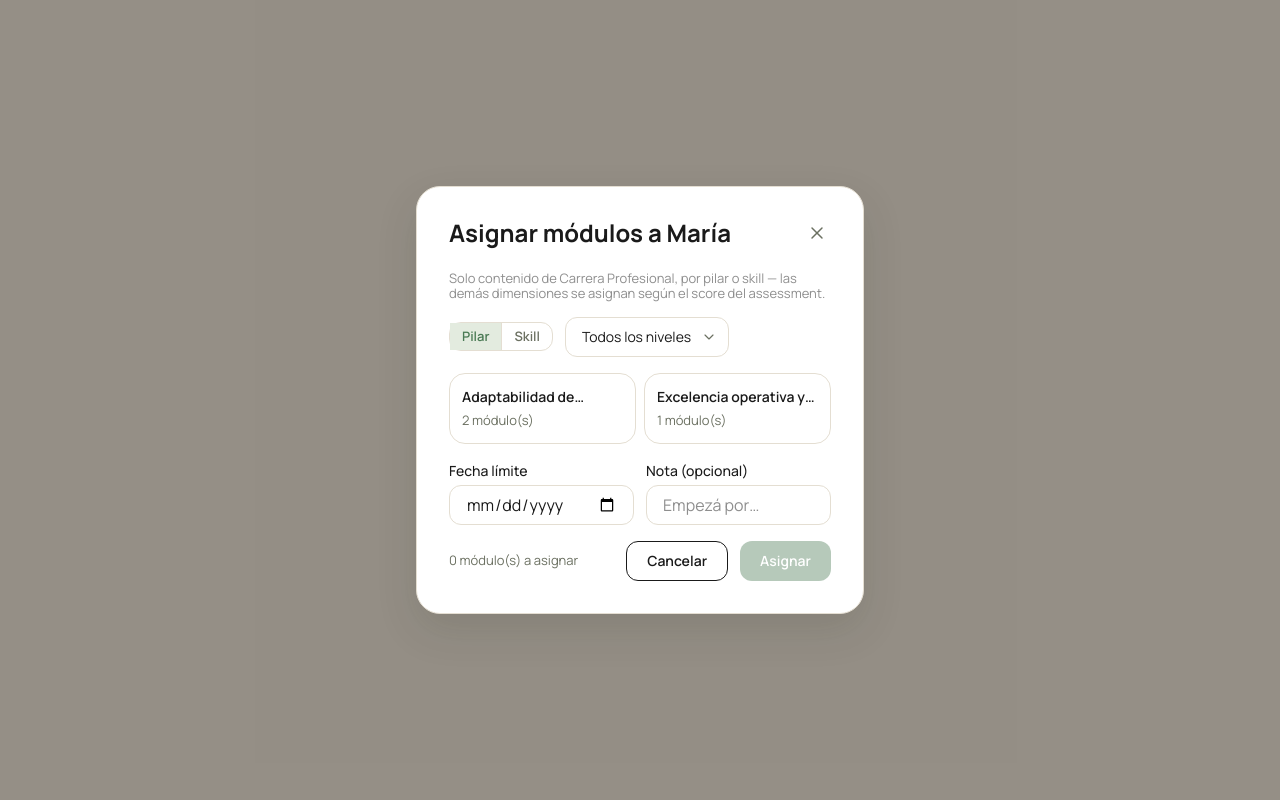
AssignModulesModal › switches to skill grouping via the toggle
Expected: the text "Adaptabilidad de aprendizaje" is shown, x1=462 y1=387 x2=574 y2=427
Click the tab "Skill": (527,337) x1=502 y1=324 x2=552 y2=350
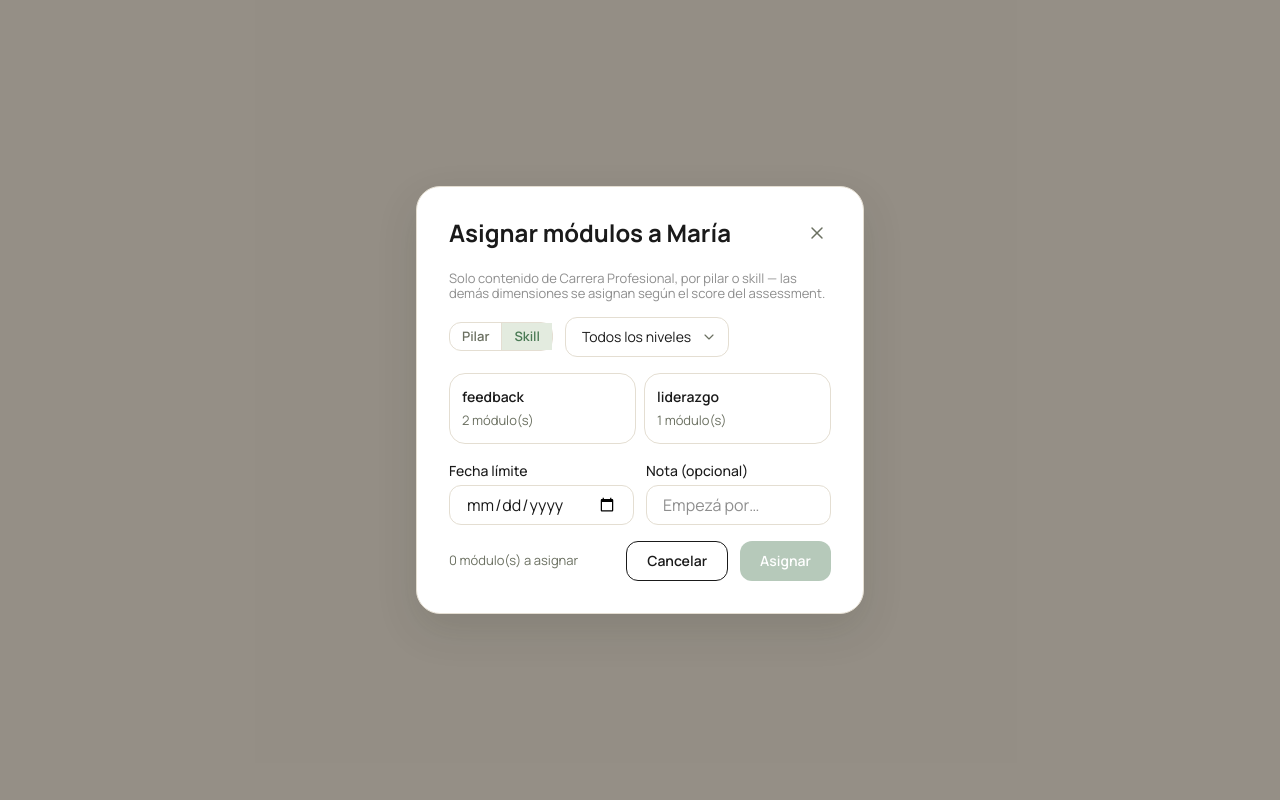
Now the text "feedback" is shown, box x1=462 y1=387 x2=524 y2=406
Now the text "liderazgo" is shown, box x1=657 y1=387 x2=719 y2=406
